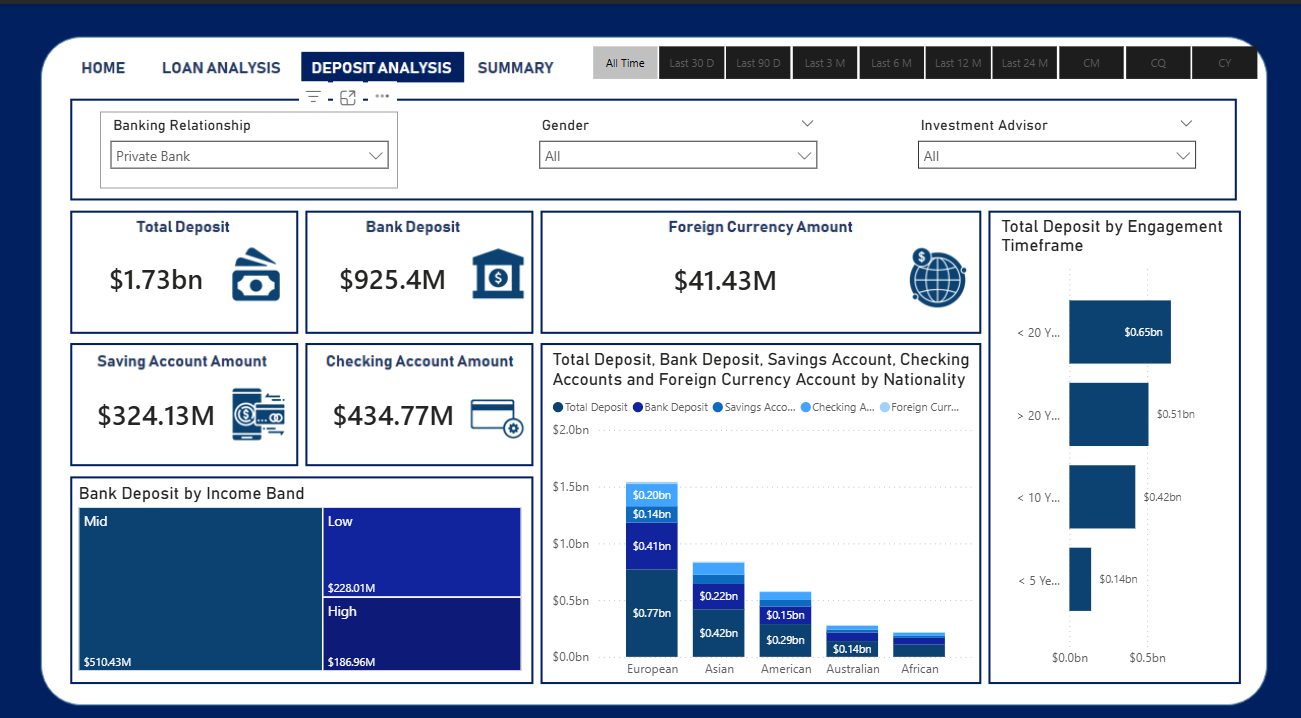

What the dashboard file says about the page in this screenshot:
{"tool":"powerbi","page":{"name":"Deposit Analysis","canvas":[1280,720],"ordinal":2},"visuals":[{"type":"card","fields":{"Values":["DAX Measures.Total Deposit"]},"box":[72.7,226.3,161.8,90.3],"z":0},{"type":"card","fields":{"Values":["DAX Measures.Bank Deposit"]},"box":[299,226.3,172.4,89.1],"z":1000},{"type":"card","fields":{"Values":["DAX Measures.Savings Account"]},"box":[72.7,360,161.8,89.1],"z":2000},{"type":"card","fields":{"Values":["DAX Measures.Checking Accounts"]},"box":[300.2,360,171.2,89.1],"z":3000},{"type":"slicer","fields":{"Values":["Banking Relationship.Banking Relationship"]},"box":[98.5,105.2,292.9,75.7],"z":4000},{"type":"slicer","fields":{"Values":["Gender.Gender"]},"box":[518.9,105.2,292.9,75.7],"z":5000},{"type":"slicer","fields":{"Values":["Investment Advisor.Investment Advisor"]},"box":[891.3,105.2,292.9,75.7],"z":6000},{"type":"card","fields":{"Values":["DAX Measures.Foreign Currency Account"]},"box":[537.1,227.5,349.4,89.1],"z":7000},{"type":"treemap","fields":{"Group":["Clients - Banking.Income Band"],"Values":["DAX Measures.Bank Deposit"]},"box":[72.7,470.2,444.4,190],"z":8000},{"type":"columnChart","fields":{"Category":["Clients - Banking.Nationality"],"Y":["DAX Measures.Total Deposit","DAX Measures.Bank Deposit","DAX Measures.Savings Account","DAX Measures.Checking Accounts","DAX Measures.Foreign Currency Account"]},"box":[537.1,338.9,423.3,331.9],"z":9000},{"type":"clusteredBarChart","fields":{"Category":["Clients - Banking.Engagement Timeframe"],"Y":["DAX Measures.Total Deposit"]},"box":[978,207.6,234.5,452.6],"z":10000},{"type":"slicer","fields":{"Values":["Period.Name"]},"box":[555.2,34.6,702.1,46.6],"z":11000},{"type":"actionButton","box":[72.8,44.2,58.5,31],"z":12000},{"type":"actionButton","box":[160,44.2,119.4,31],"z":13000},{"type":"actionButton","box":[471.6,44.2,83.6,31],"z":14000}]}

Visuals, with their boxes in screenshot pixels (x1, y1, x2, y2), scaled from the page's 1280x720 canvas onto the 1301x718 screenshot:
card - DAX Measures.Total Deposit: crop(74, 226, 238, 316)
card - DAX Measures.Bank Deposit: crop(304, 226, 479, 315)
card - DAX Measures.Savings Account: crop(74, 359, 238, 448)
card - DAX Measures.Checking Accounts: crop(305, 359, 479, 448)
slicer - Banking Relationship.Banking Relationship: crop(100, 105, 398, 180)
slicer - Gender.Gender: crop(527, 105, 825, 180)
slicer - Investment Advisor.Investment Advisor: crop(906, 105, 1204, 180)
card - DAX Measures.Foreign Currency Account: crop(546, 227, 901, 316)
treemap - Clients - Banking.Income Band x DAX Measures.Bank Deposit: crop(74, 469, 526, 658)
columnChart - Clients - Banking.Nationality x DAX Measures.Total Deposit: crop(546, 338, 976, 669)
clusteredBarChart - Clients - Banking.Engagement Timeframe x DAX Measures.Total Deposit: crop(994, 207, 1232, 658)
slicer - Period.Name: crop(564, 35, 1278, 81)
actionButton: crop(74, 44, 133, 75)
actionButton: crop(163, 44, 284, 75)
actionButton: crop(479, 44, 564, 75)
